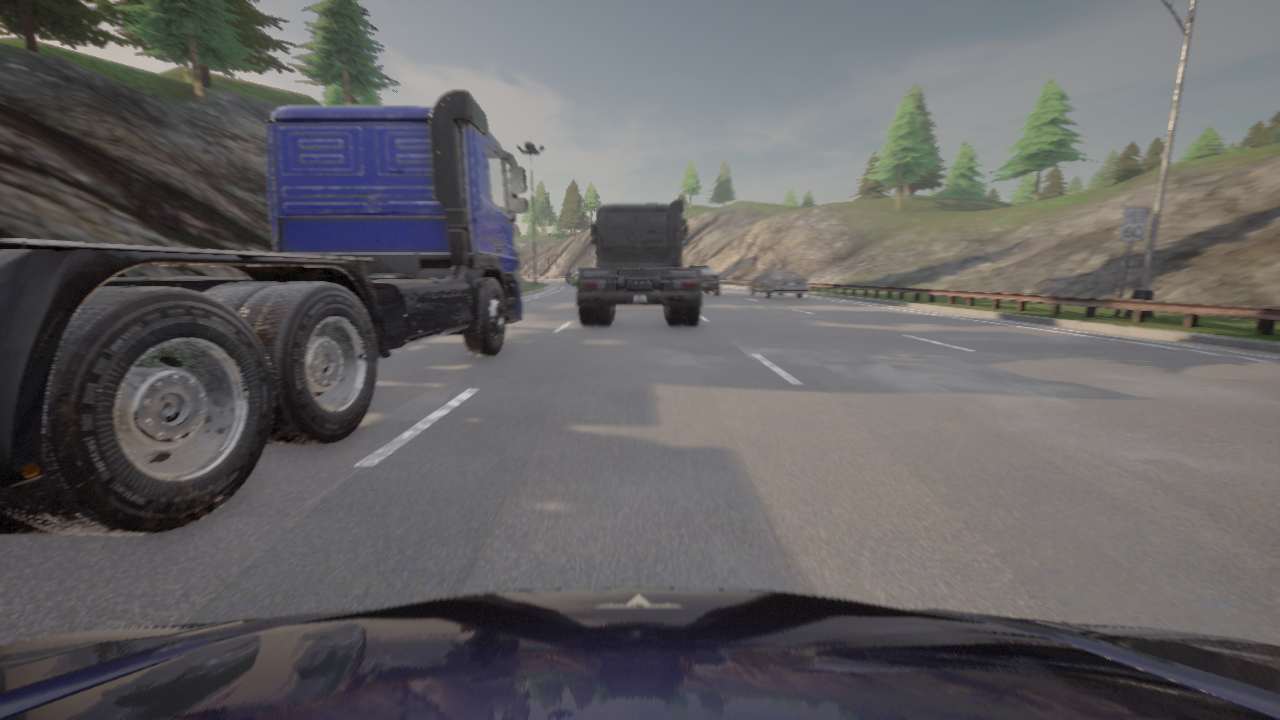cyclist: (0, 90, 527, 535), (0, 588, 1279, 719), (577, 200, 701, 325), (747, 270, 809, 298), (689, 266, 719, 295), (571, 272, 578, 285), (567, 277, 570, 283)
